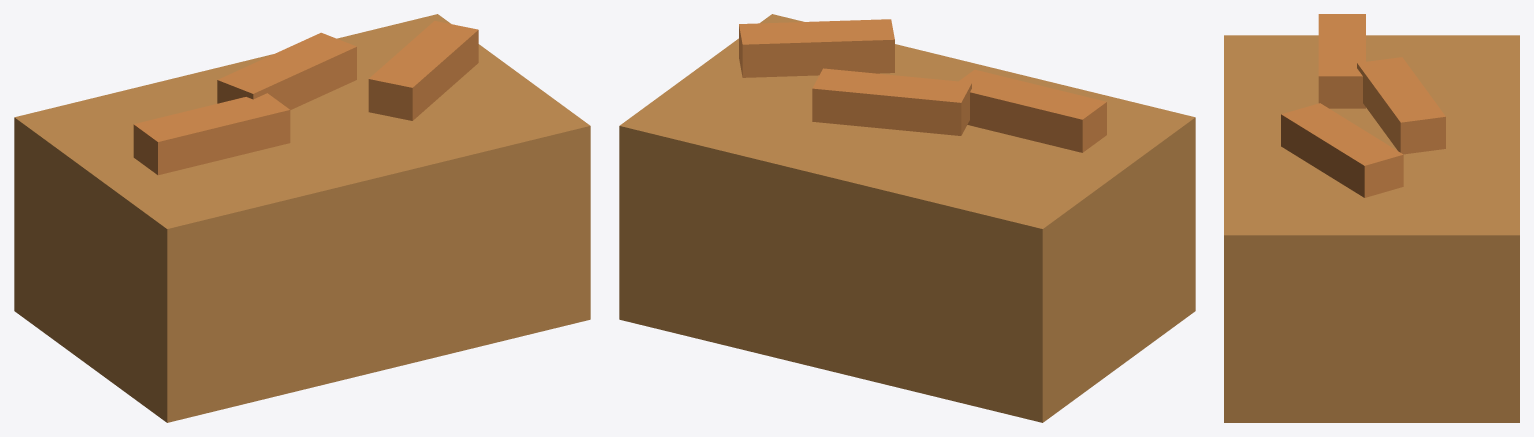
The model's file is town_fish_crate.glb.
3 renders of one model, left to right at view 1: azimuth 30°, elevation 25°; view 2: azimuth 150°, elevation 25°; view 3: azimuth 270°, elevation 25°, orthographic. The views are drawn at different scales.
Visible parts, largest first — view 1: fish_crate; view 2: fish_crate; view 3: fish_crate.
Part boxes in pixels (bbox=[...]): fish_crate: bbox=[14, 14, 590, 422]; fish_crate: bbox=[619, 14, 1195, 422]; fish_crate: bbox=[1224, 14, 1519, 422].
Bounding box in the file's own units: 0.8 × 0.445 × 0.5.
